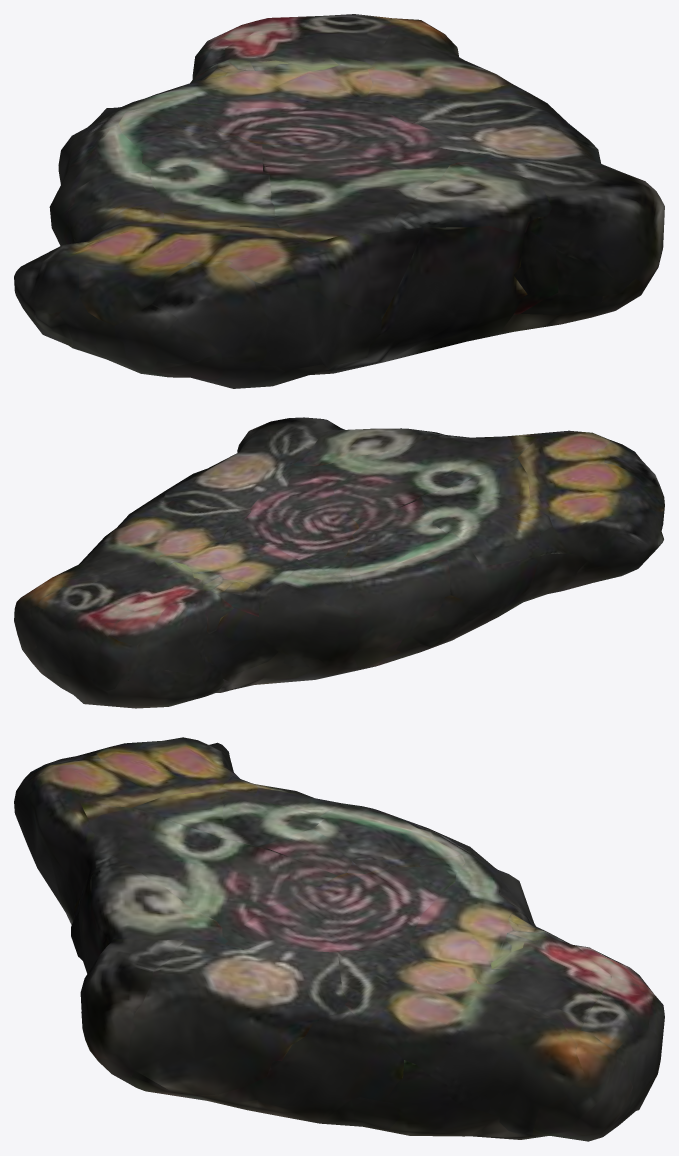
The model's file is hall.glb.
3 views of the same model, one above another, from view 1: azimuth 30°, elevation 25°; view 2: azimuth 150°, elevation 25°; view 3: azimuth 270°, elevation 25° (orthographic). The views are drawn at different scales.
Bounding box in the file's own units: 0.5843 × 0.1861 × 0.5885.
Materials: 1 (1 with a texture image).
